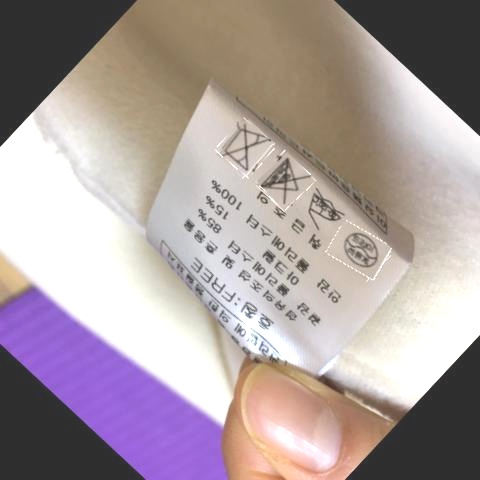DN_bleach: (261, 161, 307, 199)
DN_wash: (218, 125, 274, 173)
dry_clean_petrol_only: (333, 229, 388, 271)
iron_low: (301, 195, 346, 226)
